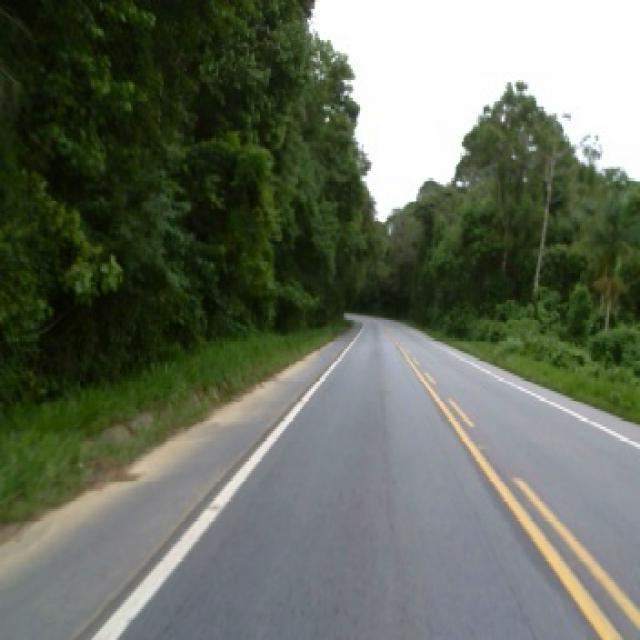Poth-hole: (209, 502, 222, 509)
